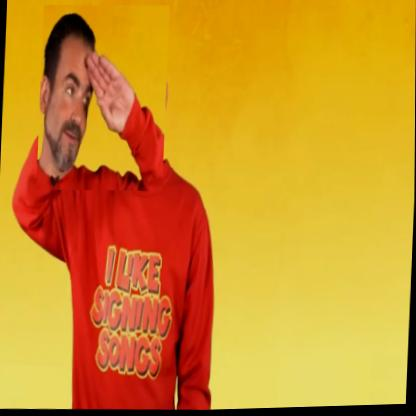Hello: (37, 3, 170, 195)
